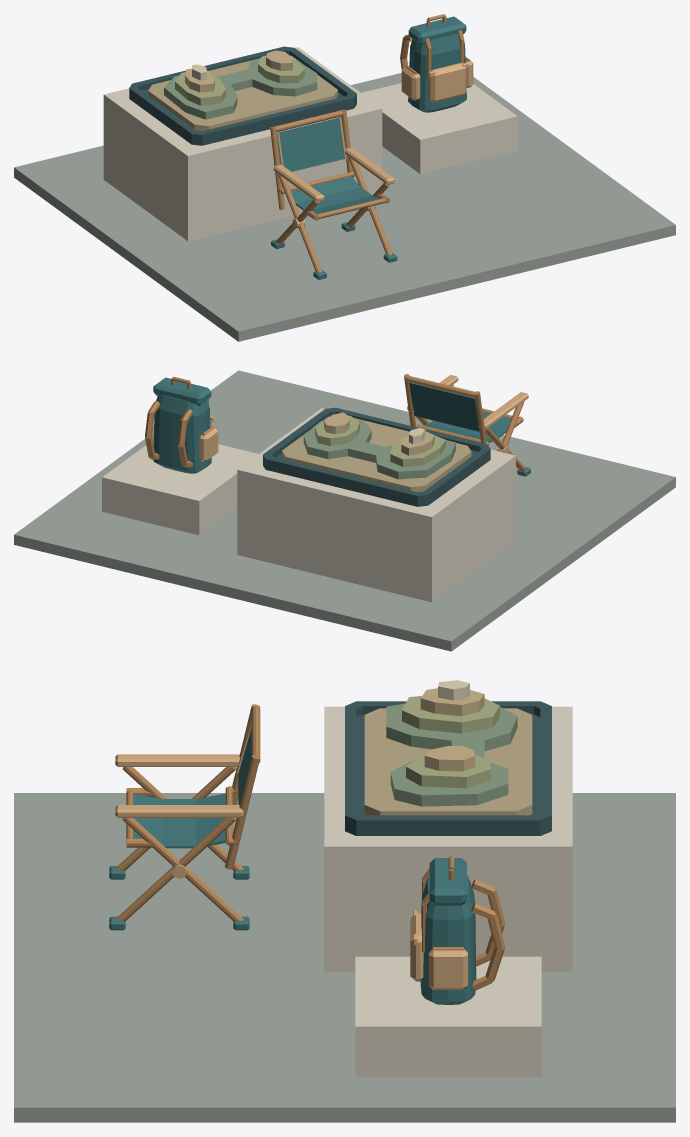
3 views of the same model, one above another, from view 1: azimuth 30°, elevation 25°; view 2: azimuth 150°, elevation 25°; view 3: azimuth 270°, elevation 25° (orthographic). The views are drawn at different scales.
Visible parts, largest first — view 1: SCENE_ONLY__MountainPreparationPad, SCENE_ONLY__BriefingPlinth, whole_briefing_chair__camping-chair-01, whole_terrain_briefing__OneContinuousTwinPeakTerracedTerrain, SCENE_ONLY__GearStagingSlab, whole_pack_staging__camping-backpack-01, whole_terrain_briefing__CompleteClosedBottomShallowFrame; view 2: SCENE_ONLY__MountainPreparationPad, SCENE_ONLY__BriefingPlinth, whole_terrain_briefing__OneContinuousTwinPeakTerracedTerrain, SCENE_ONLY__GearStagingSlab, whole_pack_staging__camping-backpack-01, whole_briefing_chair__camping-chair-01, whole_terrain_briefing__CompleteClosedBottomShallowFrame; view 3: SCENE_ONLY__MountainPreparationPad, SCENE_ONLY__BriefingPlinth, whole_terrain_briefing__OneContinuousTwinPeakTerracedTerrain, SCENE_ONLY__GearStagingSlab, whole_briefing_chair__camping-chair-01, whole_pack_staging__camping-backpack-01, whole_terrain_briefing__CompleteClosedBottomShallowFrame.
Part boxes in pixels (<box>): SCENE_ONLY__MountainPreparationPad: <box>14,73,675,341</box>; SCENE_ONLY__BriefingPlinth: <box>103,47,382,241</box>; whole_briefing_chair__camping-chair-01: <box>270,109,397,279</box>; whole_terrain_briefing__OneContinuousTwinPeakTerracedTerrain: <box>148,50,337,131</box>; SCENE_ONLY__GearStagingSlab: <box>361,83,517,174</box>; whole_pack_staging__camping-backpack-01: <box>400,14,473,112</box>; whole_terrain_briefing__CompleteClosedBottomShallowFrame: <box>129,46,356,145</box>; SCENE_ONLY__MountainPreparationPad: <box>14,370,675,651</box>; SCENE_ONLY__BriefingPlinth: <box>237,408,515,602</box>; whole_terrain_briefing__OneContinuousTwinPeakTerracedTerrain: <box>282,412,471,492</box>; SCENE_ONLY__GearStagingSlab: <box>102,444,258,535</box>; whole_pack_staging__camping-backpack-01: <box>145,376,218,473</box>; whole_briefing_chair__camping-chair-01: <box>404,374,530,476</box>; whole_terrain_briefing__CompleteClosedBottomShallowFrame: <box>263,407,490,506</box>; SCENE_ONLY__MountainPreparationPad: <box>14,793,675,1122</box>; SCENE_ONLY__BriefingPlinth: <box>324,706,572,972</box>; whole_terrain_briefing__OneContinuousTwinPeakTerracedTerrain: <box>364,680,532,815</box>; SCENE_ONLY__GearStagingSlab: <box>355,956,541,1076</box>; whole_briefing_chair__camping-chair-01: <box>109,704,260,930</box>; whole_pack_staging__camping-backpack-01: <box>410,856,504,1004</box>; whole_terrain_briefing__CompleteClosedBottomShallowFrame: <box>345,701,551,835</box>.
Size of the model in its own units: 3.6 by 1.08 by 3.2.
